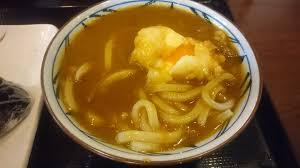curry: (37, 1, 267, 168)
